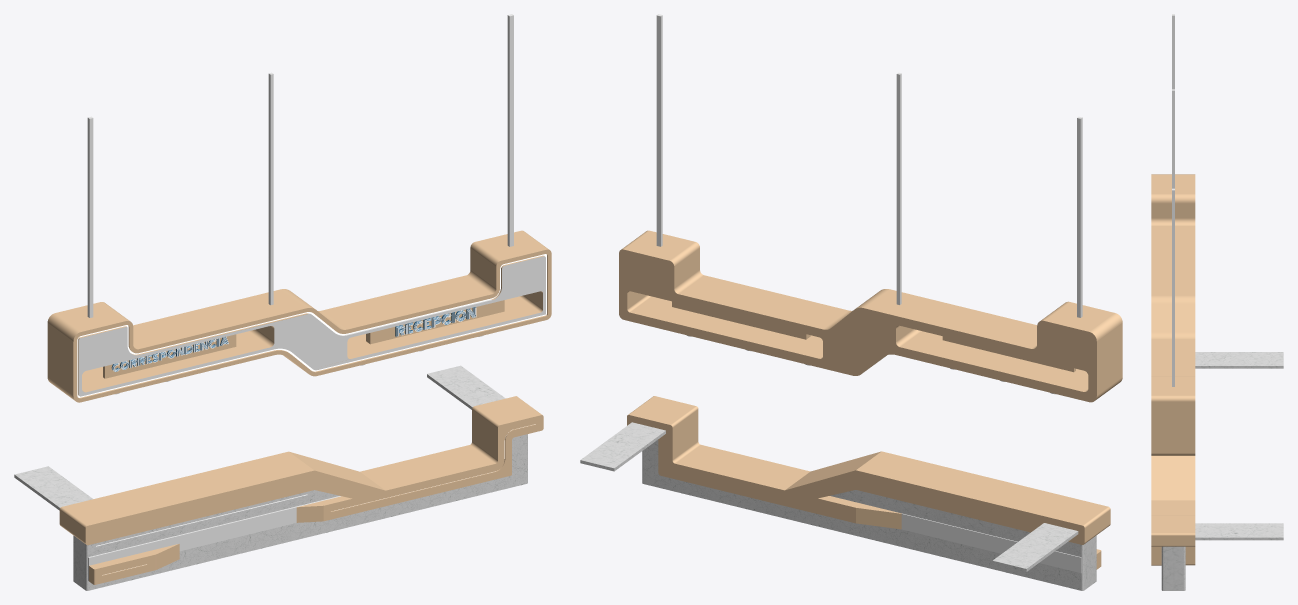
The model's file is mostrador_counter.glb.
3 views of the same model, side by side, from view 1: azimuth 30°, elevation 25°; view 2: azimuth 150°, elevation 25°; view 3: azimuth 270°, elevation 25° (orthographic). The views are drawn at different scales.
Bounding box in the file's own units: 6.4 × 5.96 × 1.8.
11 materials, 1 textured.
